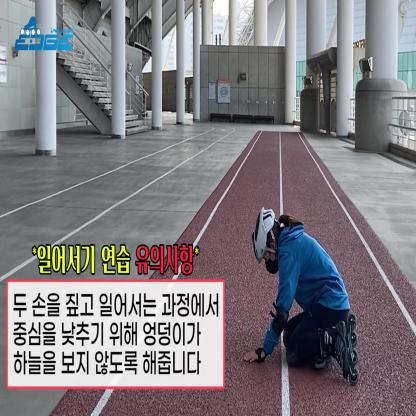Fall_Down: (241, 215, 351, 379)
